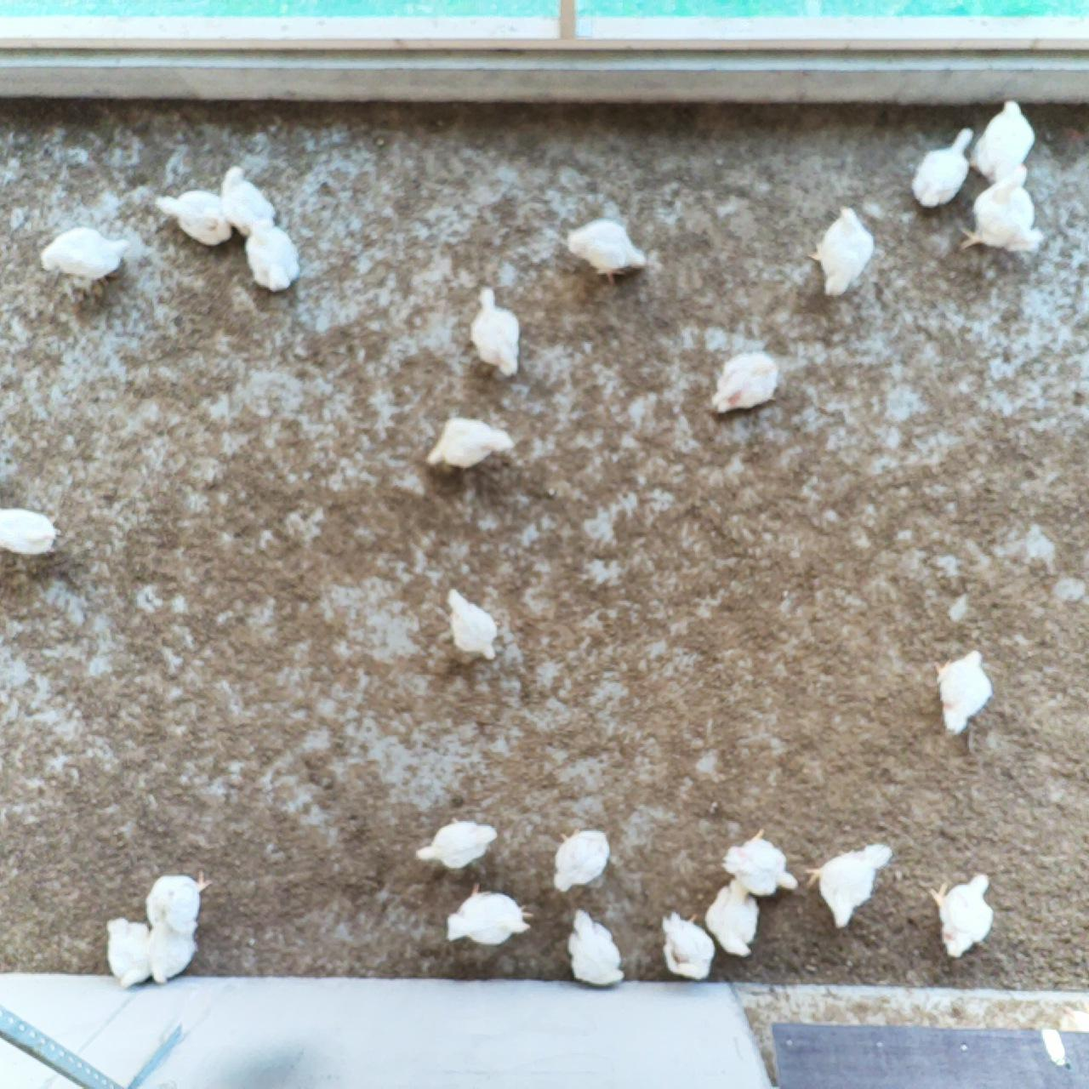chicken: (956, 160, 1049, 261), (803, 839, 894, 936), (803, 200, 878, 300), (37, 222, 134, 295), (443, 877, 538, 951), (925, 871, 999, 961), (563, 214, 650, 289), (968, 94, 1039, 183), (718, 825, 803, 899), (464, 283, 528, 381), (909, 122, 977, 212), (931, 649, 1000, 736), (420, 413, 515, 473), (409, 813, 501, 874), (704, 345, 783, 416), (563, 905, 629, 989), (703, 873, 765, 962), (151, 184, 235, 248), (141, 868, 217, 933), (443, 582, 503, 664), (547, 822, 614, 895), (243, 218, 304, 297), (216, 164, 281, 238), (656, 908, 716, 985), (141, 919, 203, 988), (0, 501, 66, 559), (101, 914, 151, 985)
